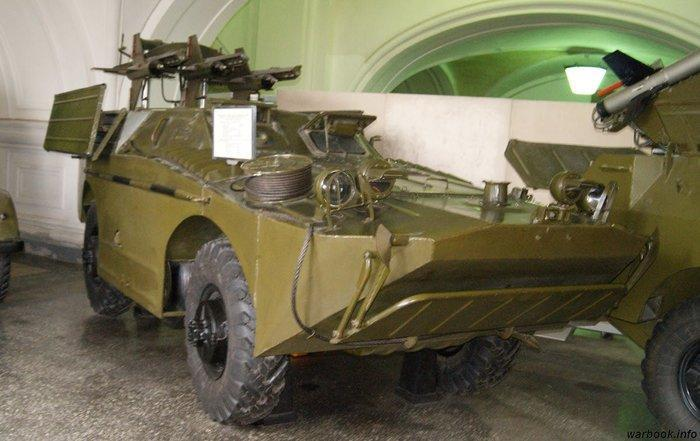MIL_IFV: (40, 39, 653, 425)
